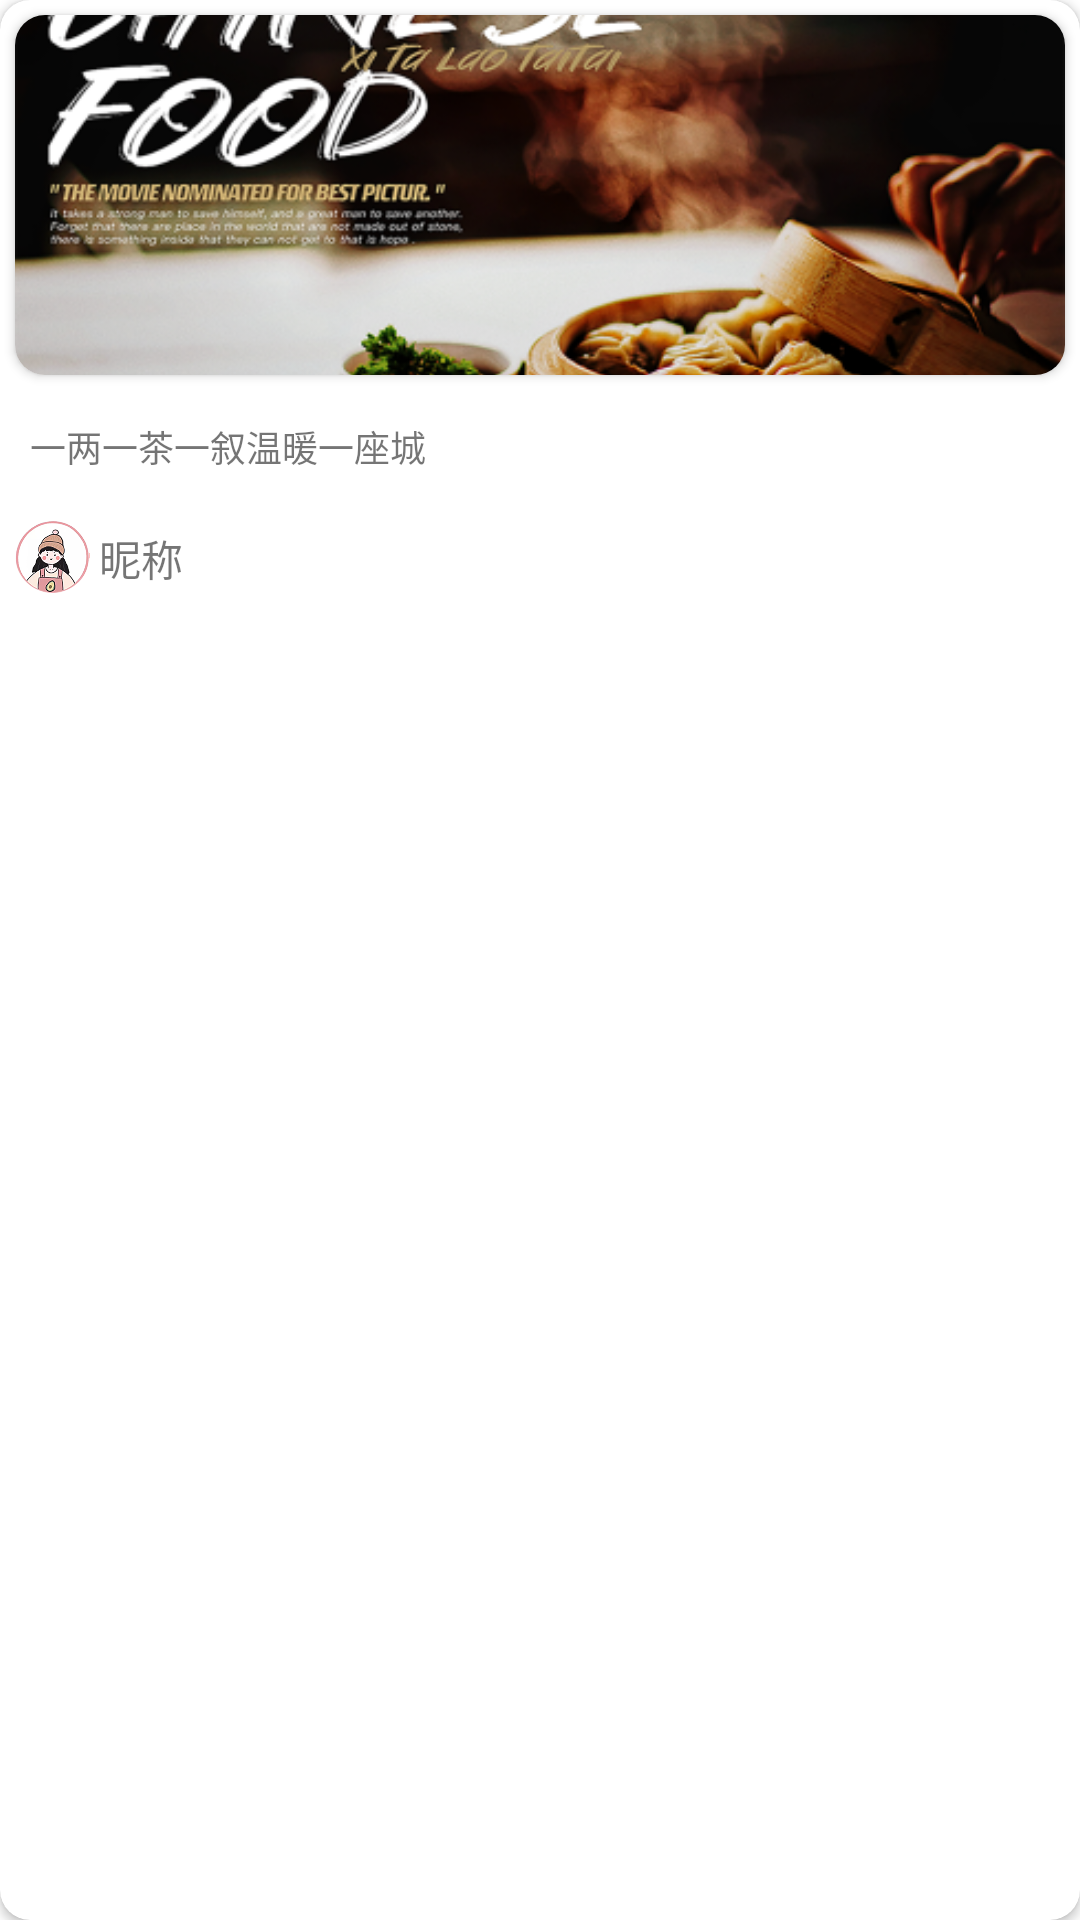

Icons on this 1080px x 1920px Android screen, each with its box as (x1, y1, x2, y2):
head: (16, 521, 90, 593)
